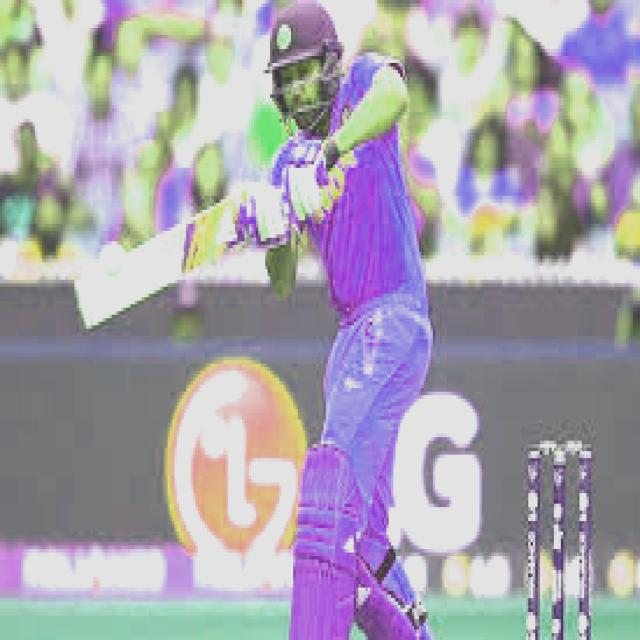toe: (68, 273, 100, 337)
